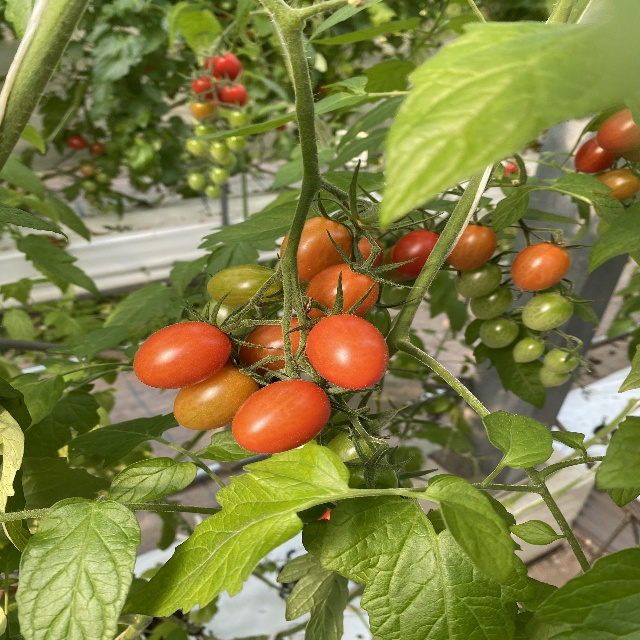l_fully_ripened: (232, 378, 332, 455), (133, 320, 233, 390), (304, 313, 389, 389), (391, 229, 440, 277), (573, 135, 622, 174)
l_green: (207, 264, 285, 310), (521, 290, 573, 331), (324, 431, 386, 463), (455, 259, 503, 298), (345, 455, 399, 489), (470, 281, 513, 320), (479, 312, 519, 348), (363, 300, 391, 338), (544, 347, 579, 373), (512, 336, 545, 362), (539, 366, 573, 387)
l_half_ripened: (172, 364, 258, 431), (301, 261, 380, 325), (279, 217, 354, 283), (239, 316, 314, 378), (510, 243, 571, 291), (446, 222, 497, 270), (596, 108, 640, 154), (592, 168, 639, 203)
